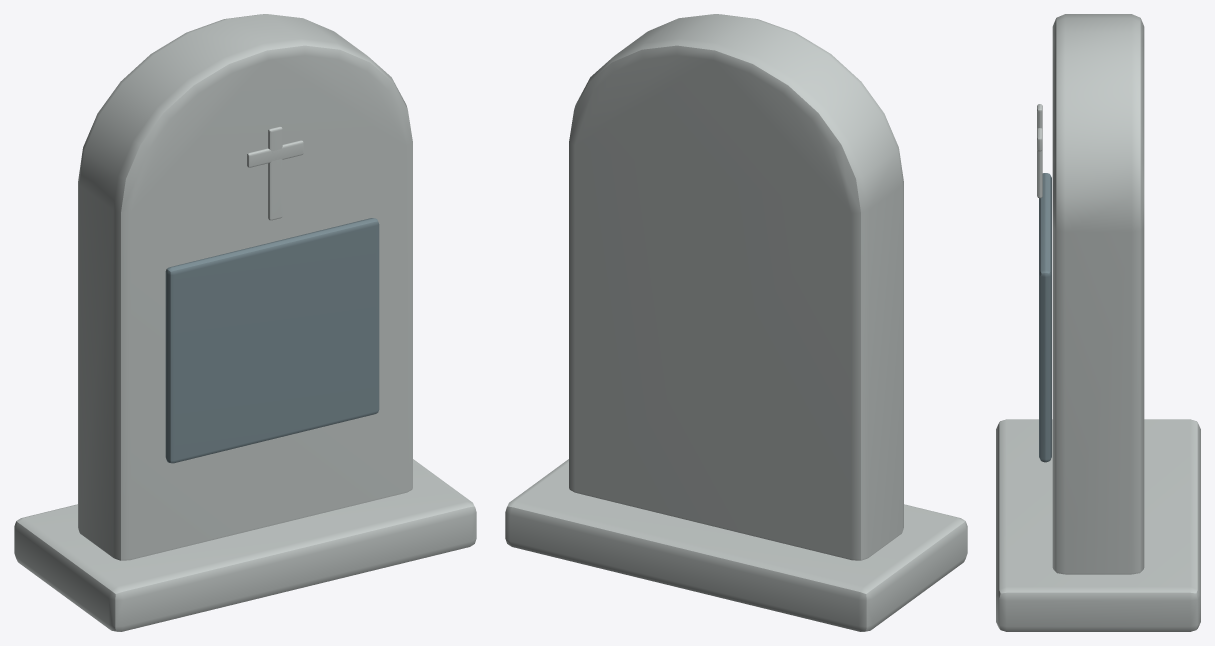
The model's file is tombstone.glb.
3 renders of one model, left to right at view 1: azimuth 30°, elevation 25°; view 2: azimuth 150°, elevation 25°; view 3: azimuth 270°, elevation 25°, orthographic.
Visible parts, largest first — view 1: arched_stone, inset_plaque, base_plinth, cross_vertical, cross_horizontal; view 2: arched_stone, base_plinth; view 3: arched_stone, base_plinth, inset_plaque, cross_vertical.
Part boxes in pixels (bbox=[...]): arched_stone: bbox=[78, 14, 412, 560]; inset_plaque: bbox=[165, 218, 379, 463]; base_plinth: bbox=[14, 459, 476, 631]; cross_vertical: bbox=[268, 126, 282, 220]; cross_horizontal: bbox=[247, 140, 303, 167]; arched_stone: bbox=[569, 14, 903, 560]; base_plinth: bbox=[505, 459, 967, 631]; arched_stone: bbox=[1052, 14, 1144, 574]; base_plinth: bbox=[996, 419, 1200, 631]; inset_plaque: bbox=[1039, 173, 1051, 462]; cross_vertical: bbox=[1037, 104, 1042, 198].
Bounding box in the file's own units: 0.59 × 0.805 × 0.29.
